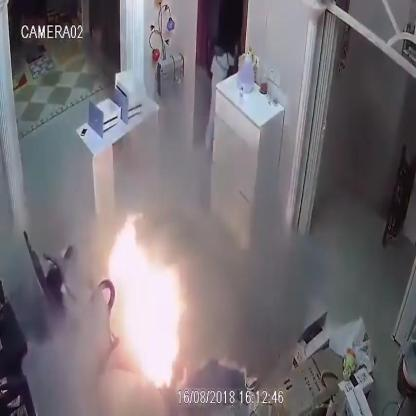fire: (108, 214, 182, 387)
